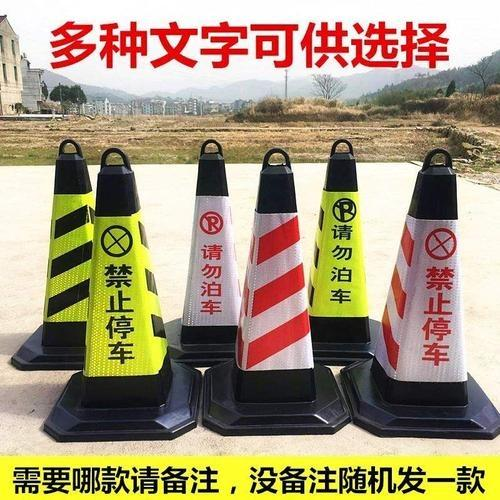cone_barrel: (61, 153, 188, 434), (364, 142, 484, 421), (216, 151, 332, 417), (19, 141, 102, 365), (302, 142, 381, 357), (169, 142, 243, 351)
